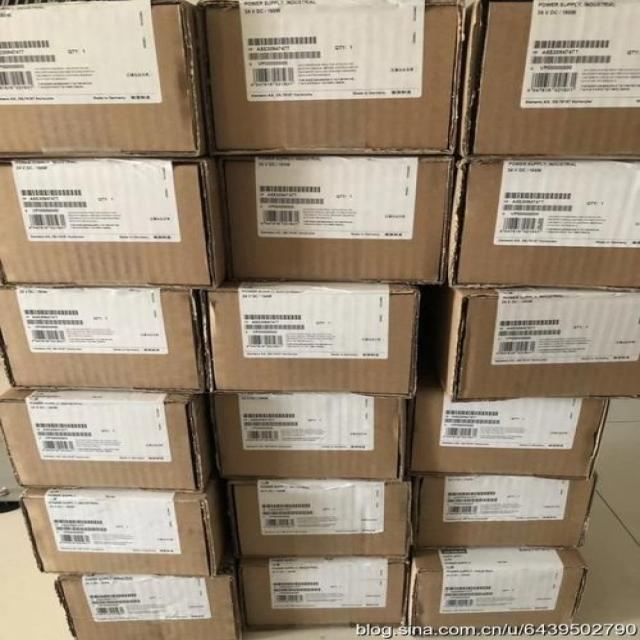Carton: (412, 396, 605, 628), (200, 1, 465, 154), (0, 1, 202, 162), (219, 159, 457, 283), (465, 1, 639, 162), (0, 165, 210, 283), (454, 162, 639, 290), (201, 288, 413, 395), (0, 286, 202, 392), (453, 291, 639, 397), (3, 398, 198, 489), (211, 395, 401, 480), (23, 494, 210, 574), (237, 483, 408, 555), (241, 562, 404, 628)
